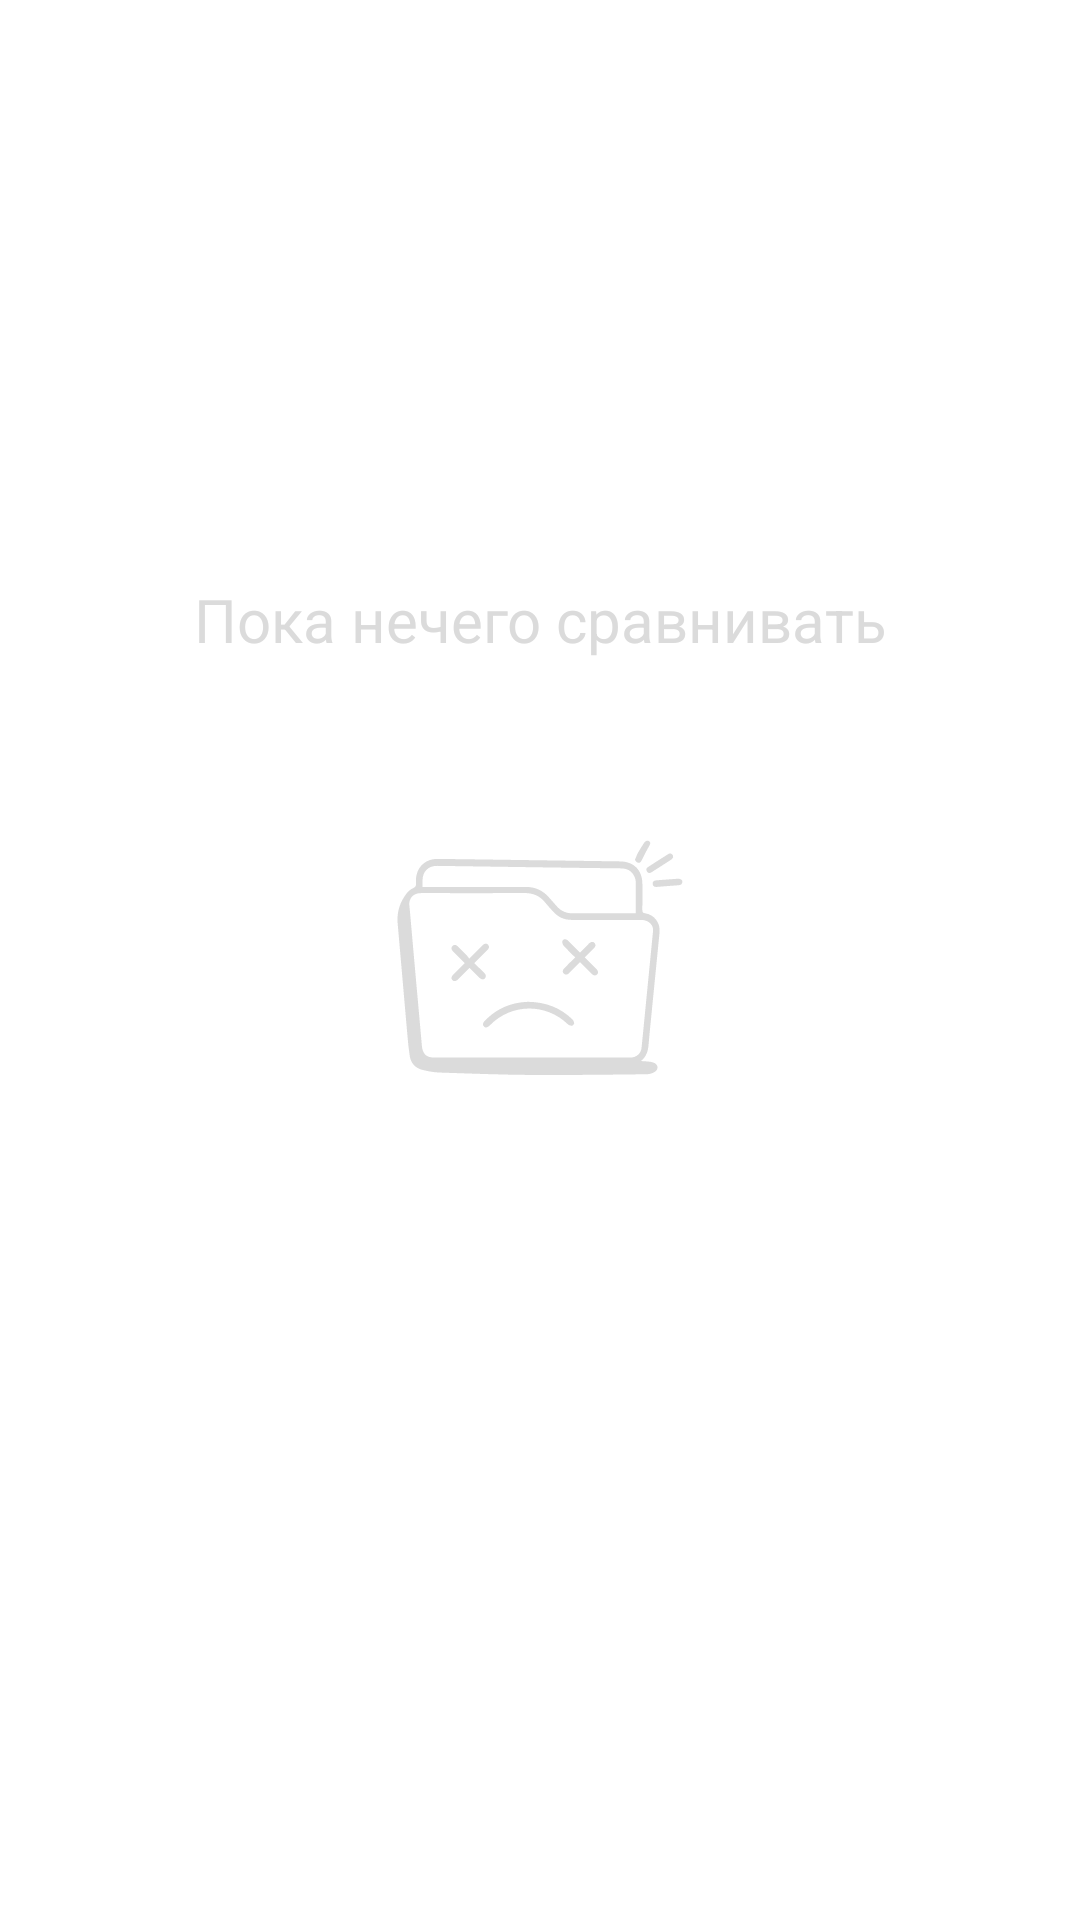

Icon bounding boxes for this 1080x1920 phone screenshot, format (x1, y1, x2, y2):
empty: (398, 841, 682, 1075)
